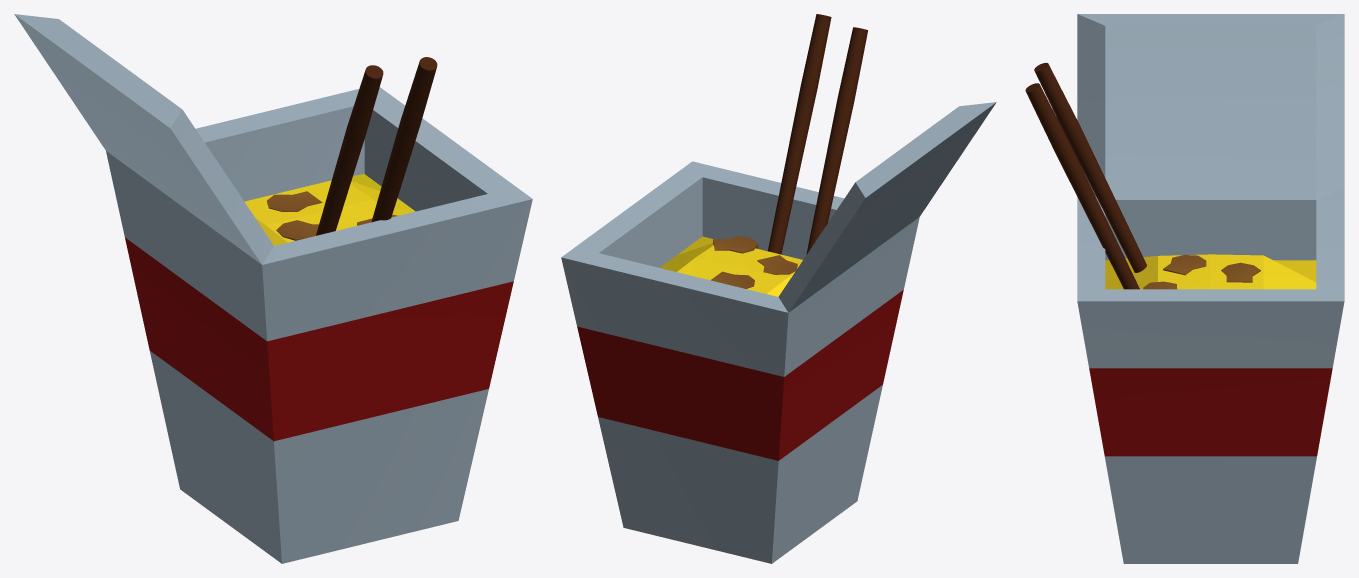
File: comidaChina.fbx
3 renders of one model, left to right at view 1: azimuth 30°, elevation 25°; view 2: azimuth 150°, elevation 25°; view 3: azimuth 270°, elevation 25°, orthographic. The views are drawn at different scales.
Parts seen in each view (by area): view 1: Cube; view 2: Cube; view 3: Cube.
Part boxes in pixels (box(x1,y1,x2,y2)): Cube: box(14, 14, 532, 563); Cube: box(561, 14, 996, 563); Cube: box(1025, 14, 1344, 563).
Bounding box in the file's own units: 411 × 563 × 366.
